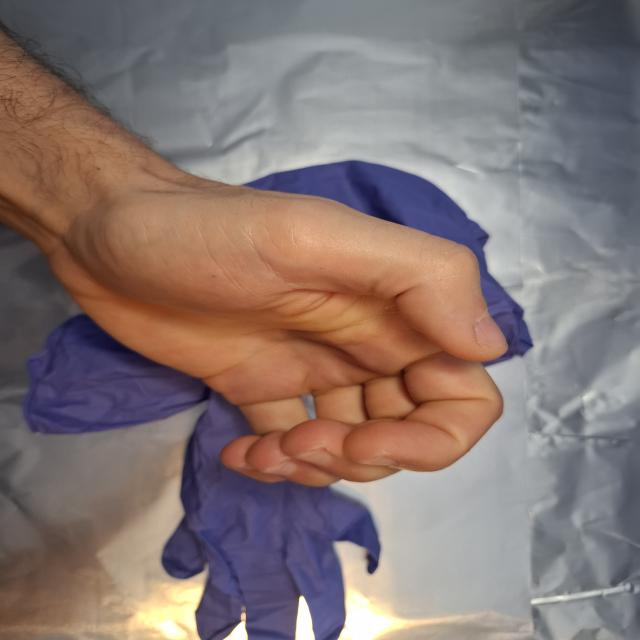glove_off: (41, 150, 515, 491)
